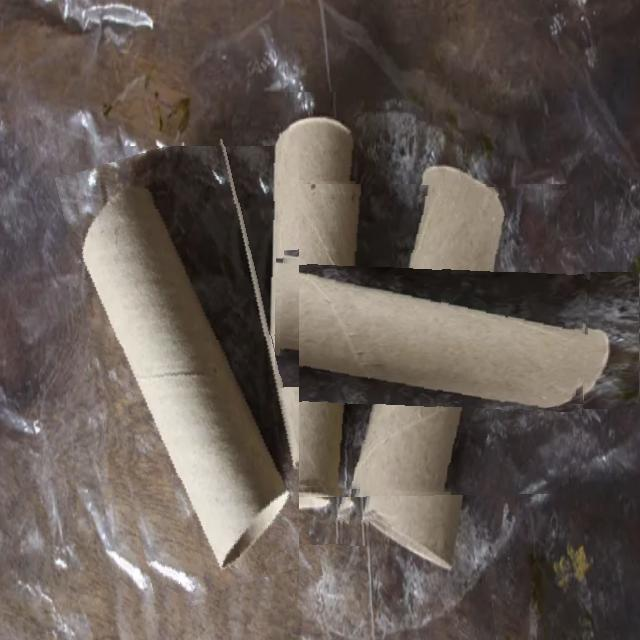biodegradable: (80, 146, 300, 608), (276, 184, 591, 498), (250, 92, 375, 546)
